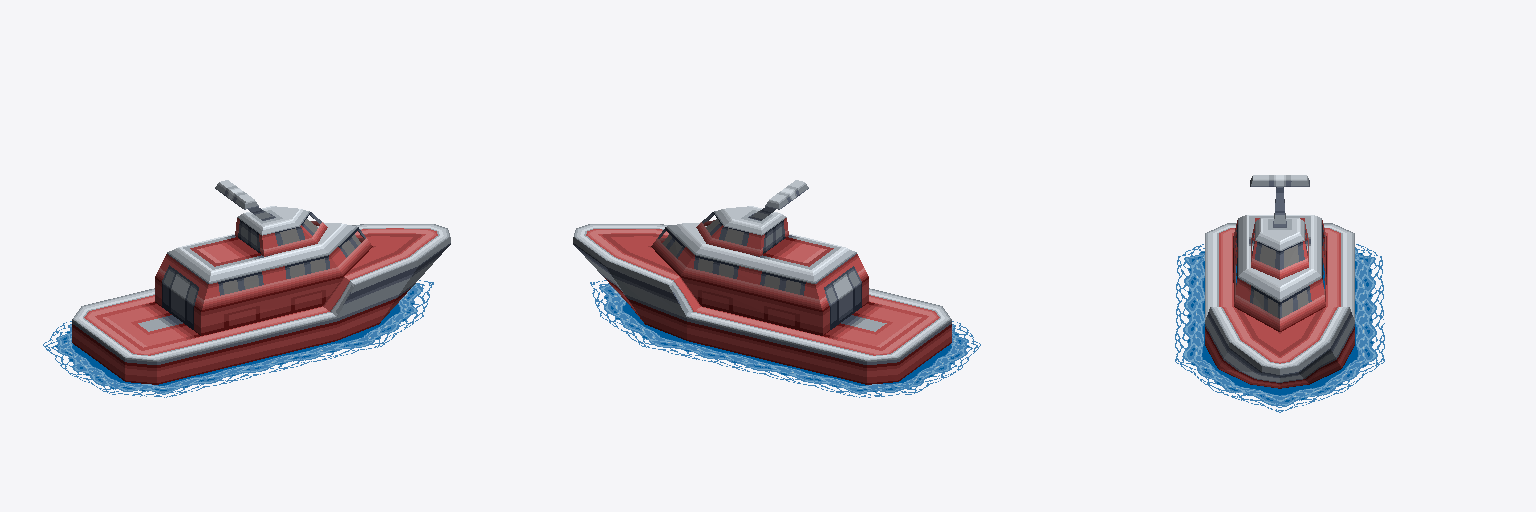
3 views of the same model, side by side, from view 1: azimuth 30°, elevation 25°; view 2: azimuth 150°, elevation 25°; view 3: azimuth 270°, elevation 25° (orthographic).
Parts seen in each view (by area): view 1: polygon0, polygon2, polygon1; view 2: polygon0, polygon2, polygon1; view 3: polygon0, polygon2, polygon1.
Part boxes in pixels (x1,y1,x2,y2): polygon0: (72,180,450,384); polygon2: (43,280,433,397); polygon1: (223,219,360,294); polygon0: (573,180,951,384); polygon2: (590,280,980,397); polygon1: (662,219,800,294); polygon0: (1205,175,1354,388); polygon2: (1175,244,1384,412); polygon1: (1253,245,1308,317).
Size of the model in its own units: 7.34 by 2.54 by 3.57.
3 materials, 2 textured.